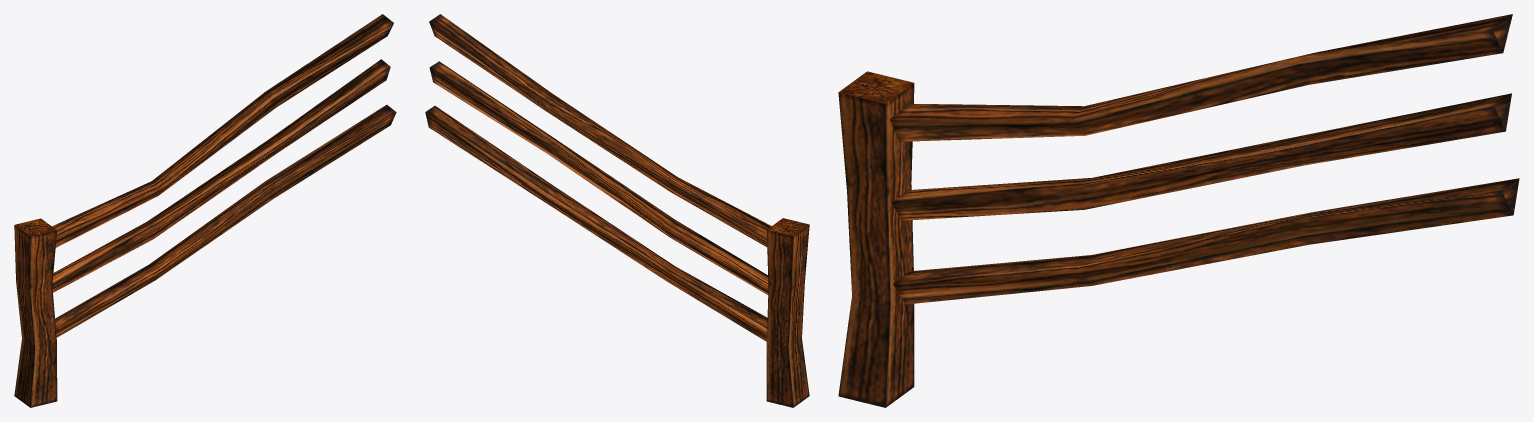
Rendered from INST_HTOWN_FENCEBRN20DEG.fbx.
The picture shows the model from 3 angles, left to right: view 1: azimuth 30°, elevation 25°; view 2: azimuth 150°, elevation 25°; view 3: azimuth 330°, elevation 25°; orthographic projection. The views are drawn at different scales.
Parts seen in each view (by area): view 1: INST_HTOWN_FENCEBRN20DEG; view 2: INST_HTOWN_FENCEBRN20DEG; view 3: INST_HTOWN_FENCEBRN20DEG.
Boxes of the visible parts, left/top/right/bottom form: INST_HTOWN_FENCEBRN20DEG: left=14, top=14, right=396, bottom=407; INST_HTOWN_FENCEBRN20DEG: left=425, top=14, right=809, bottom=407; INST_HTOWN_FENCEBRN20DEG: left=838, top=14, right=1519, bottom=407.
Size of the model in its own units: 30236 by 22981 by 2372.
2 materials, 2 textured.
